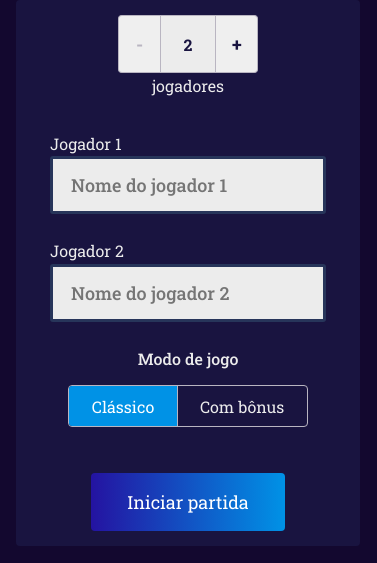
Test: cadastro de jogadores › normaliza a quantidade em branco para 2 ao tentar iniciar
Clear the number field at (188, 44), box [160, 15, 216, 73]
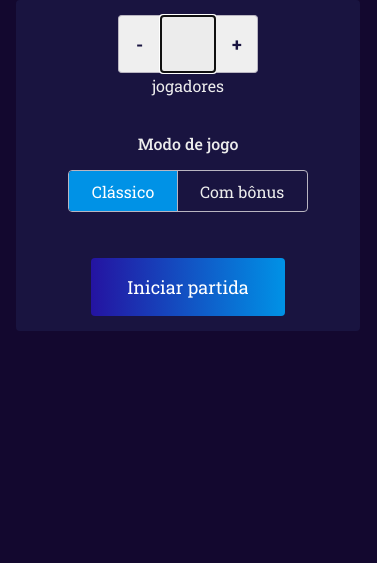
Click the button "Iniciar partida".
click(188, 287)  # box [91, 258, 285, 316]
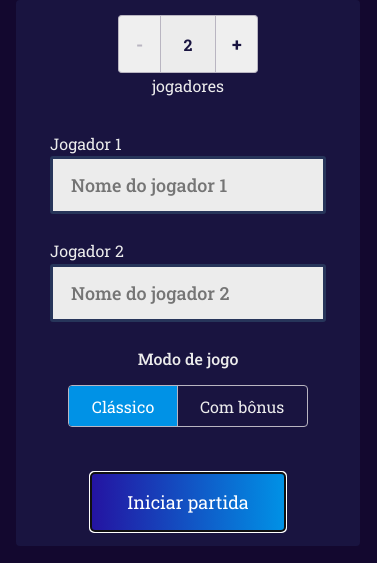
Now the number field holds "2", box [160, 15, 216, 73]
